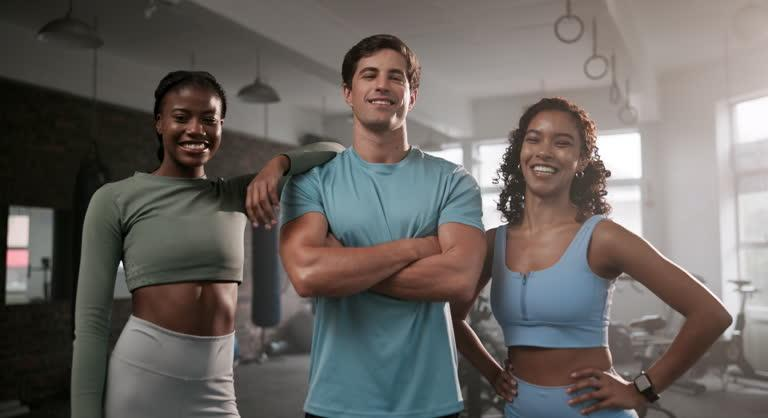no_helmet: (504, 143, 612, 188), (340, 108, 436, 155), (147, 122, 232, 168)
none: (288, 170, 498, 324), (77, 190, 263, 287), (468, 212, 652, 298)
